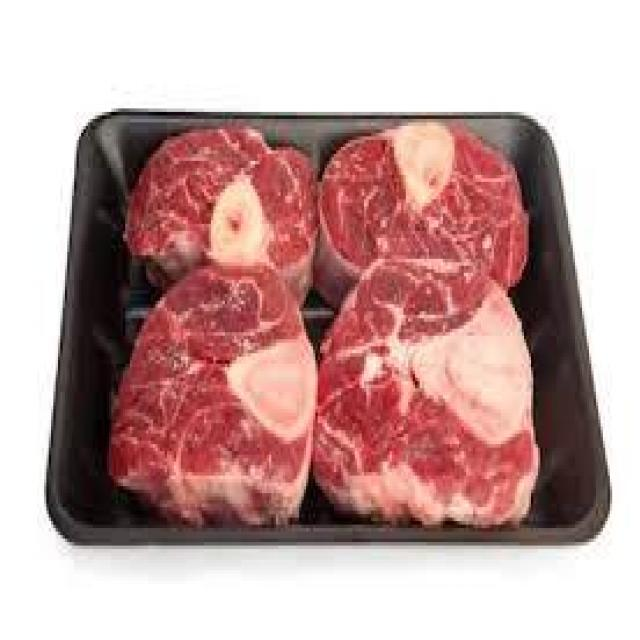beef: (119, 263, 324, 526)
